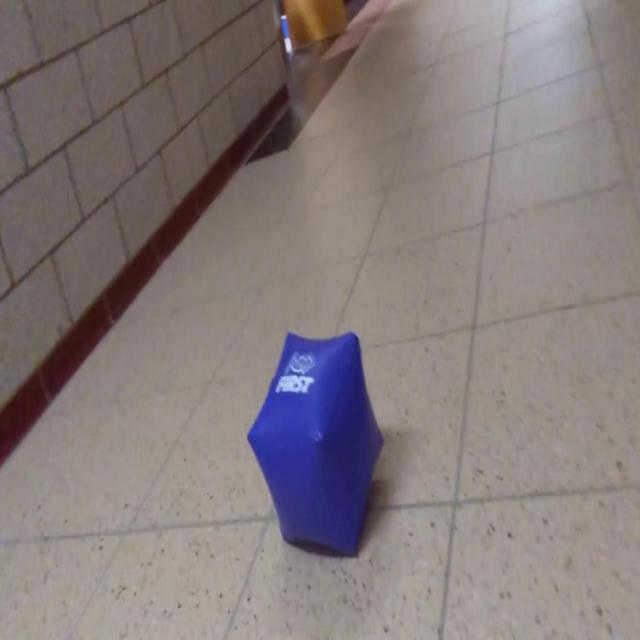frc_cube: (248, 328, 384, 558)
